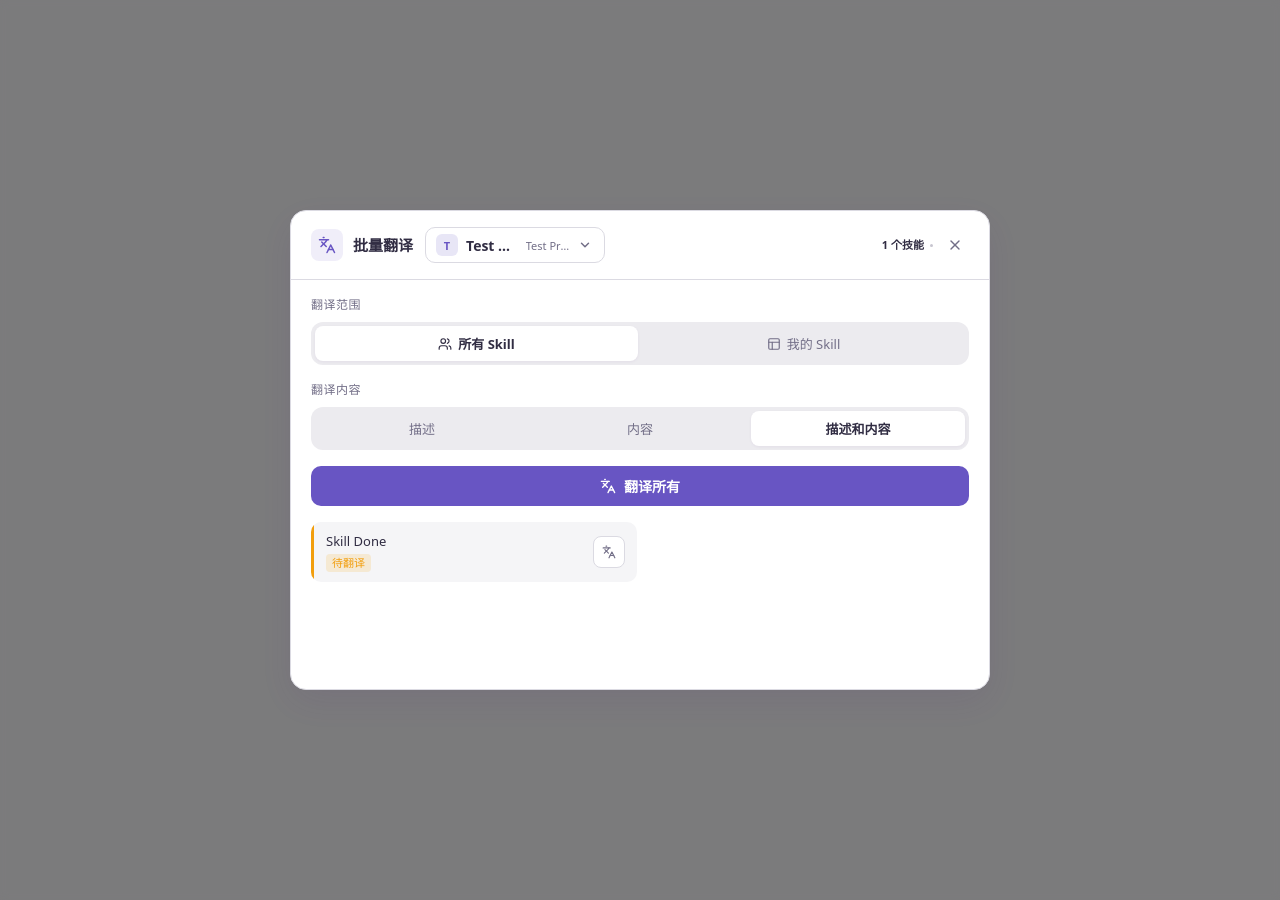
Test: Translation status detection › already translated (desc) shows 已翻译 and button enabled
Click the button with class "segment-btn" showing "描述": (422, 428) [315,411,529,446]
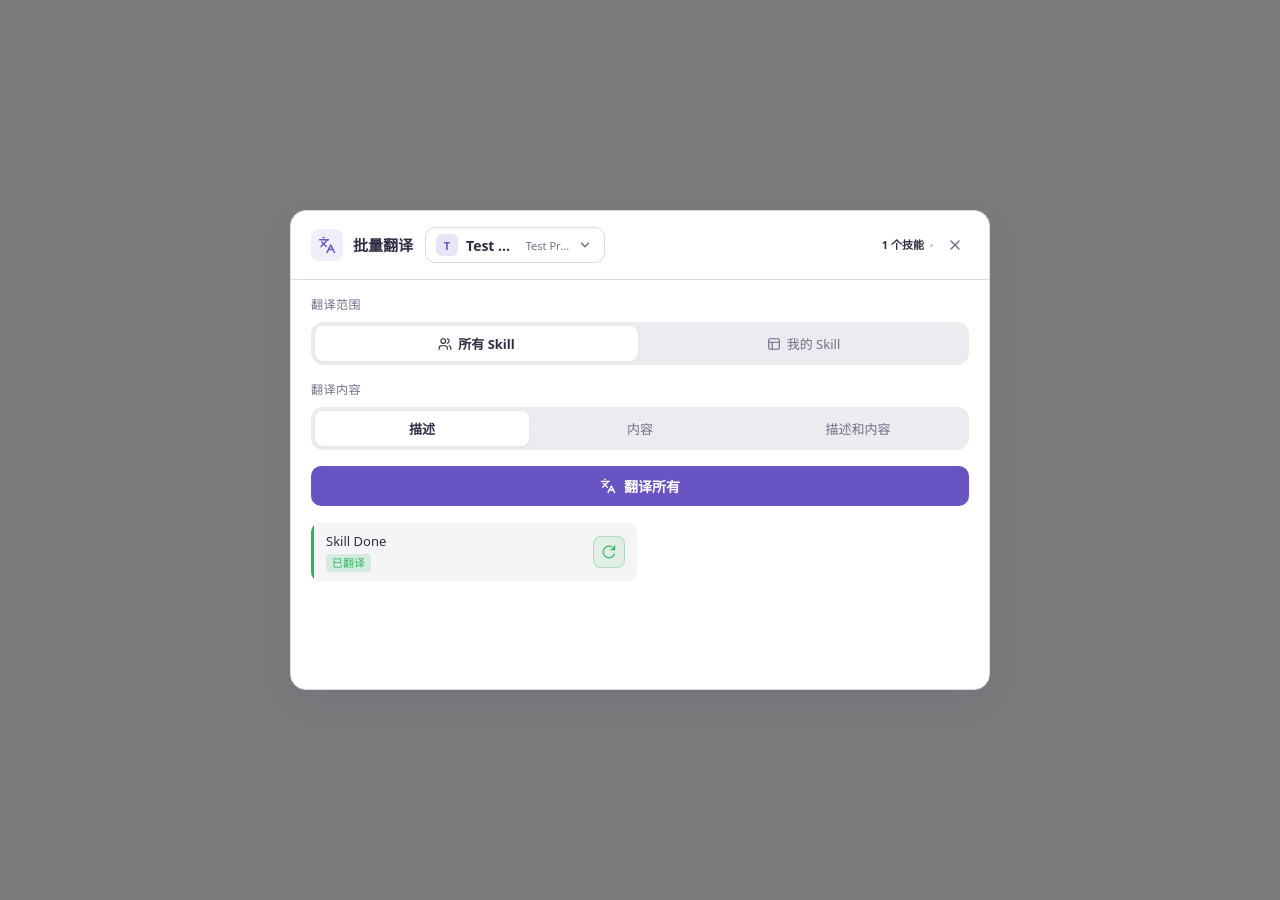
Check: the button with class "translate-btn" is enabled, box [593,536,625,568]
Check: the text with class "skill-status-badge" reads "已翻译", box [332,554,365,570]
